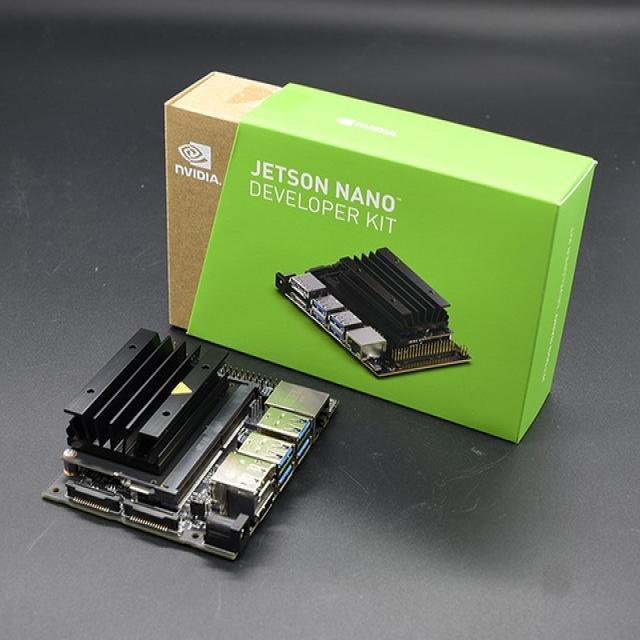Jetson Nano: (43, 326, 341, 561)
